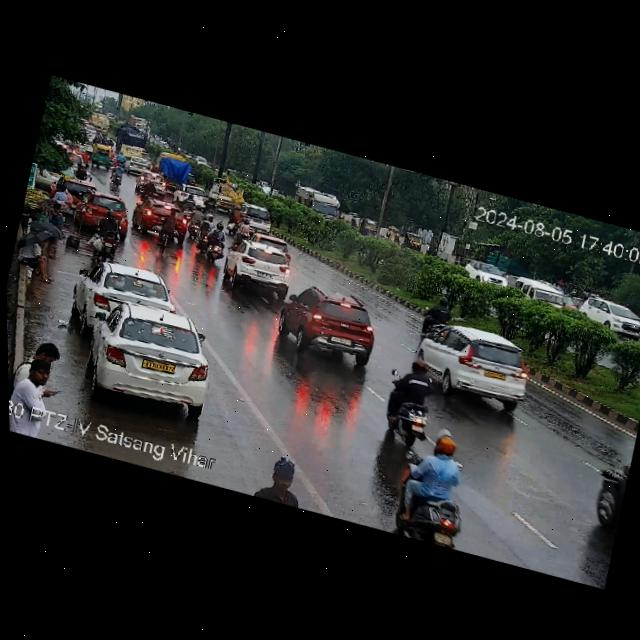car: (65, 290, 227, 421), (407, 316, 542, 414), (267, 272, 387, 367), (75, 256, 181, 334), (219, 236, 298, 299), (584, 447, 634, 540), (129, 192, 191, 244), (576, 292, 640, 340), (513, 274, 583, 314), (75, 189, 135, 235), (457, 254, 512, 291), (230, 200, 276, 235), (173, 181, 212, 207), (355, 212, 386, 240), (91, 143, 120, 171), (121, 155, 152, 177), (402, 229, 426, 257), (135, 168, 166, 188), (192, 154, 210, 167), (153, 138, 171, 150), (225, 168, 237, 179)
motorcycle: (87, 209, 129, 259), (194, 215, 230, 263), (189, 205, 218, 246), (156, 207, 179, 255), (230, 215, 255, 243), (107, 162, 130, 186)
person: (246, 460, 315, 511), (8, 361, 61, 416), (17, 235, 60, 283), (31, 338, 64, 369), (49, 182, 78, 215)
truck: (285, 180, 349, 219), (153, 153, 198, 193), (207, 177, 245, 212), (115, 125, 149, 152), (85, 114, 110, 136), (128, 115, 152, 135), (88, 96, 106, 114)
